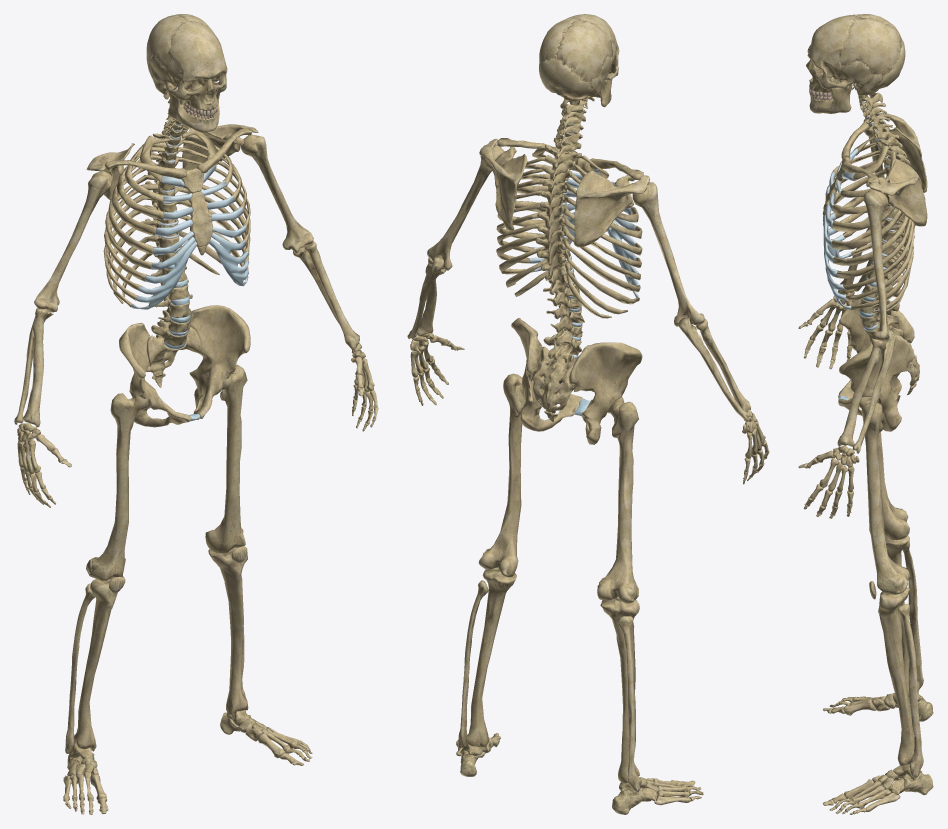
The model's file is bones-lite.glb.
The picture shows the model from 3 angles, left to right: view 1: azimuth 30°, elevation 25°; view 2: azimuth 150°, elevation 25°; view 3: azimuth 270°, elevation 25°; orthographic projection. The views are drawn at different scales.
Visible parts, largest first — view 1: Cranium_m, Rib_Cage_r, Pelvis_l, Femur_r, Femur_l, Rib_Cage_l, Costal_Cartilage_r, Tibia_l, Tibia_r, Pelvis_r, Costal_Cartilage_l, Humerus_r (+17 smaller); view 2: Cranium_m, Rib_Cage_r, Femur_r, Pelvis_r, Rib_Cage_l, Femur_l, Thoracic_m, Scapula_r, Tibia_l, Pelvis_l, Tibia_r, Scapula_l (+16 smaller); view 3: Cranium_m, Rib_Cage_l, Femur_l, Tibia_l, Pelvis_l, Foot_l, Scapula_l, Hand_l, Humerus_l, Pelvis_r, Fibula_l, Hand_r (+18 smaller).
Part boxes in pixels (x1=…): Cranium_m: x1=146, y1=14, x2=227, y2=110; Rib_Cage_r: x1=103, y1=135, x2=170, y2=307; Pelvis_l: x1=189, y1=305, x2=250, y2=419; Femur_r: x1=86, y1=393, x2=150, y2=581; Femur_l: x1=205, y1=364, x2=247, y2=553; Rib_Cage_l: x1=174, y1=127, x2=250, y2=279; Costal_Cartilage_r: x1=131, y1=176, x2=197, y2=309; Tibia_l: x1=208, y1=548, x2=247, y2=717; Tibia_r: x1=74, y1=576, x2=124, y2=751; Pelvis_r: x1=119, y1=322, x2=191, y2=427; Costal_Cartilage_l: x1=200, y1=165, x2=249, y2=286; Humerus_r: x1=34, y1=171, x2=112, y2=312; Cranium_m: x1=539, y1=14, x2=619, y2=97; Rib_Cage_r: x1=561, y1=155, x2=642, y2=318; Femur_r: x1=597, y1=396, x2=638, y2=603; Pelvis_r: x1=569, y1=342, x2=642, y2=444; Rib_Cage_l: x1=496, y1=145, x2=554, y2=296; Femur_l: x1=478, y1=373, x2=525, y2=577; Thoracic_m: x1=535, y1=144, x2=581, y2=294; Scapula_r: x1=573, y1=171, x2=649, y2=247; Tibia_l: x1=466, y1=567, x2=516, y2=746; Pelvis_l: x1=511, y1=318, x2=583, y2=431; Tibia_r: x1=600, y1=598, x2=639, y2=783; Scapula_l: x1=479, y1=138, x2=527, y2=230; Cranium_m: x1=806, y1=14, x2=905, y2=95; Rib_Cage_l: x1=831, y1=142, x2=914, y2=313; Femur_l: x1=859, y1=397, x2=909, y2=594; Tibia_l: x1=878, y1=587, x2=914, y2=765; Pelvis_l: x1=838, y1=334, x2=914, y2=431; Foot_l: x1=822, y1=764, x2=933, y2=814; Scapula_l: x1=866, y1=160, x2=927, y2=226; Hand_l: x1=798, y1=445, x2=859, y2=518; Humerus_l: x1=863, y1=189, x2=890, y2=341; Pelvis_r: x1=838, y1=294, x2=914, y2=399; Fibula_l: x1=898, y1=603, x2=923, y2=777; Hand_r: x1=798, y1=291, x2=856, y2=369.
Bounding box in the file's own units: 0.8484 × 1.79 × 0.2946.
1 material, 1 textured.
